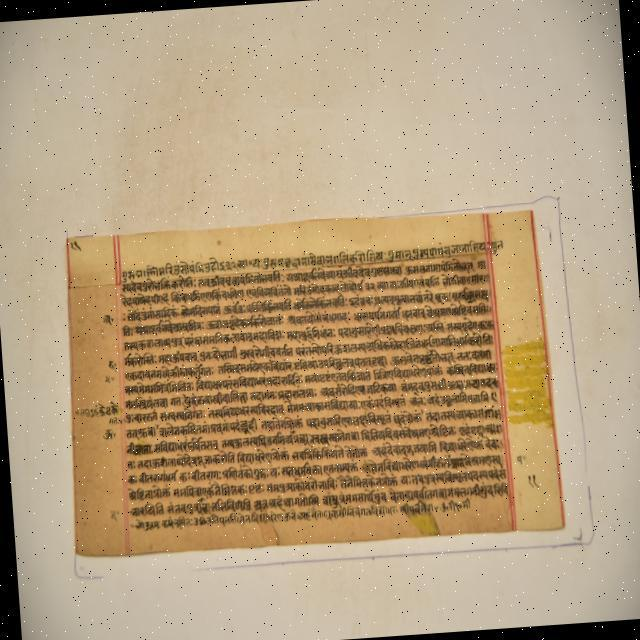text_paragraph: (66, 208, 564, 557)
